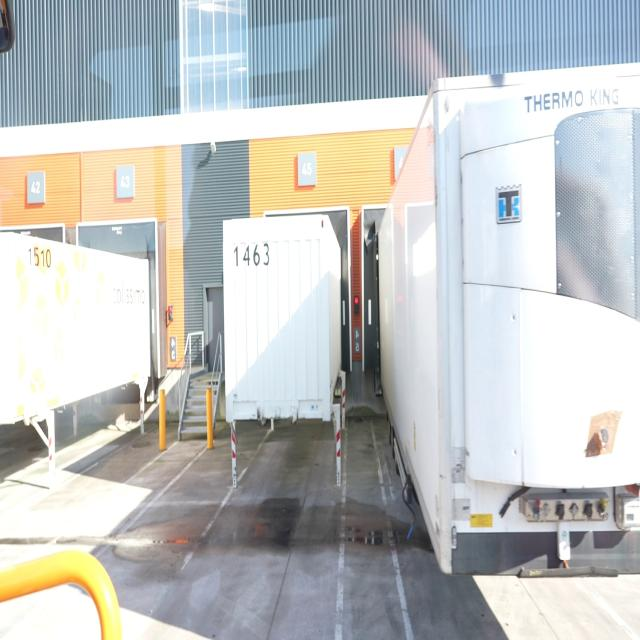Code: (230, 237, 273, 270), (25, 238, 54, 274)
